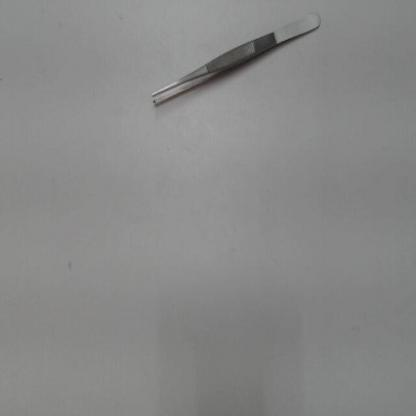Gillies Toothed Dissector: (144, 6, 332, 119)
